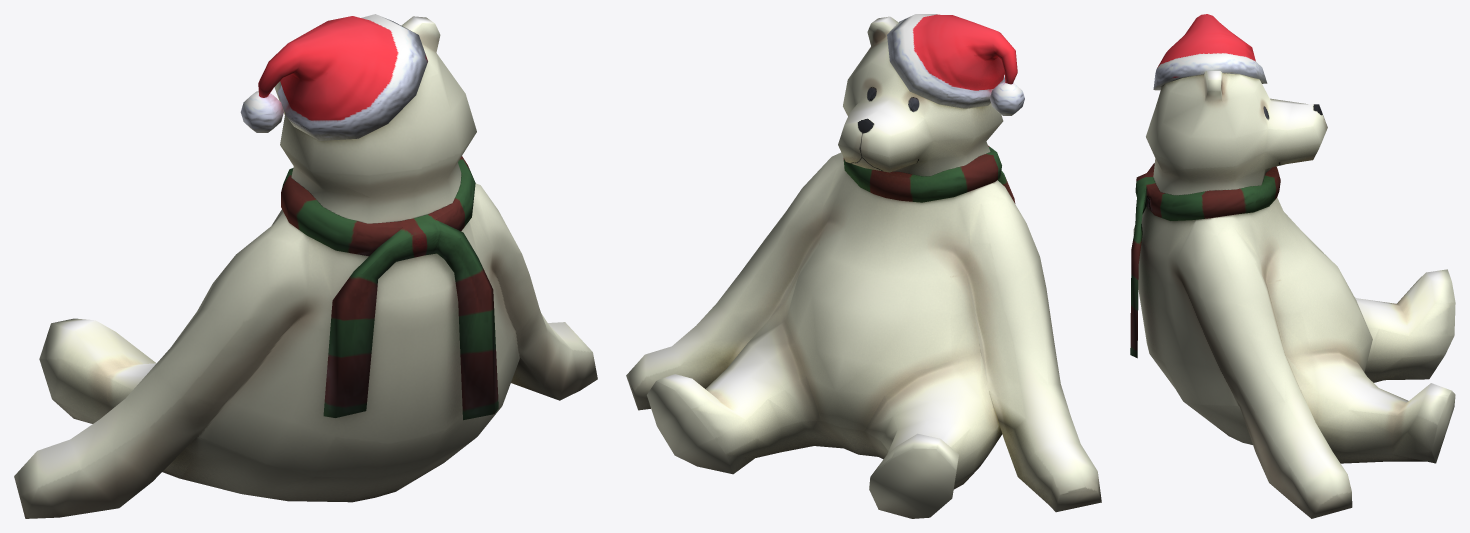
The model's file is bear.glb.
3 renders of one model, left to right at view 1: azimuth 30°, elevation 25°; view 2: azimuth 150°, elevation 25°; view 3: azimuth 270°, elevation 25°, orthographic. The views are drawn at different scales.
Visible parts, largest first — view 1: 0_TEX_600; view 2: 0_TEX_600; view 3: 0_TEX_600.
Part boxes in pixels (x1=…): 0_TEX_600: x1=14, y1=14, x2=597, y2=518; 0_TEX_600: x1=626, y1=14, x2=1101, y2=518; 0_TEX_600: x1=1130, y1=14, x2=1455, y2=518.
Size of the model in its own units: 119 by 96.26 by 76.45.
1 material, 1 textured.
